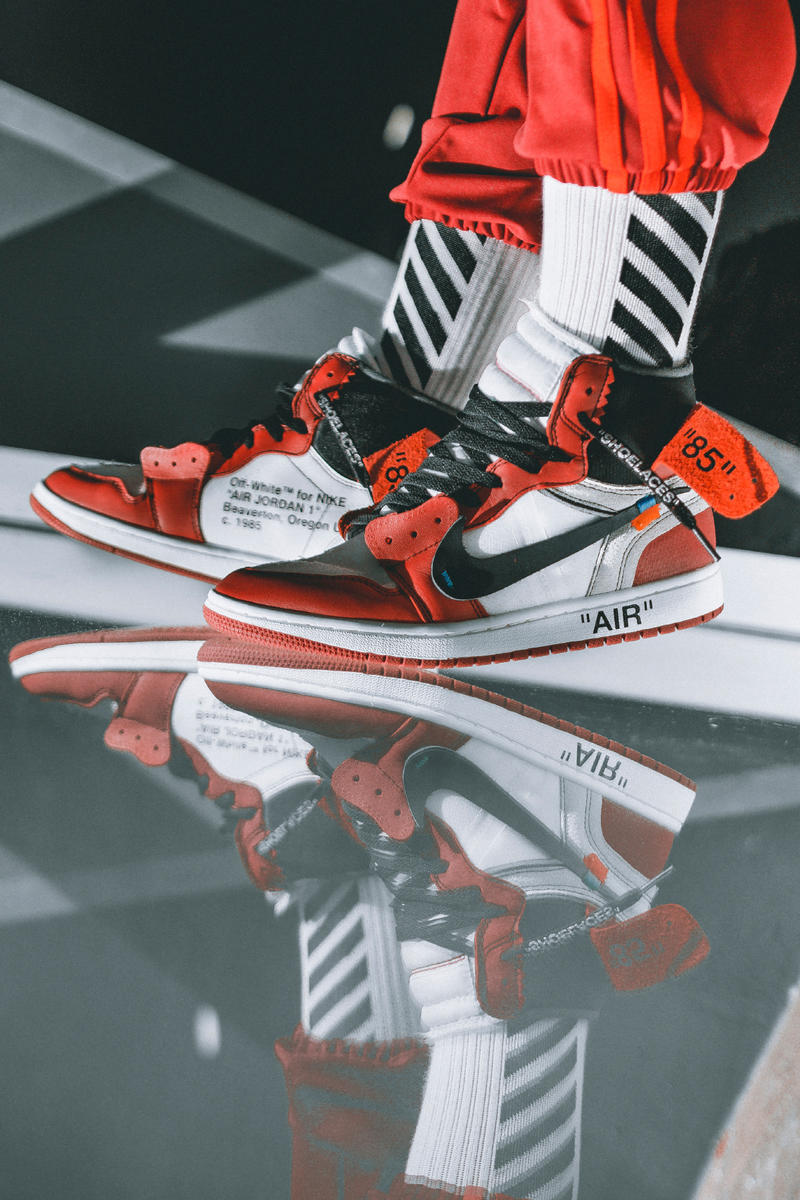Jordan 1: (199, 309, 786, 704)
